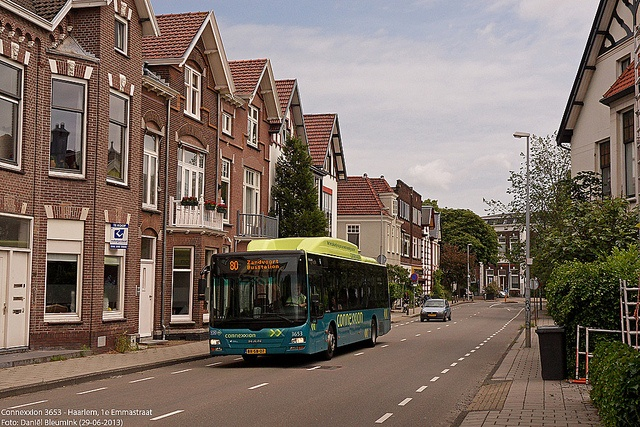bus: (200, 234, 593, 427)
